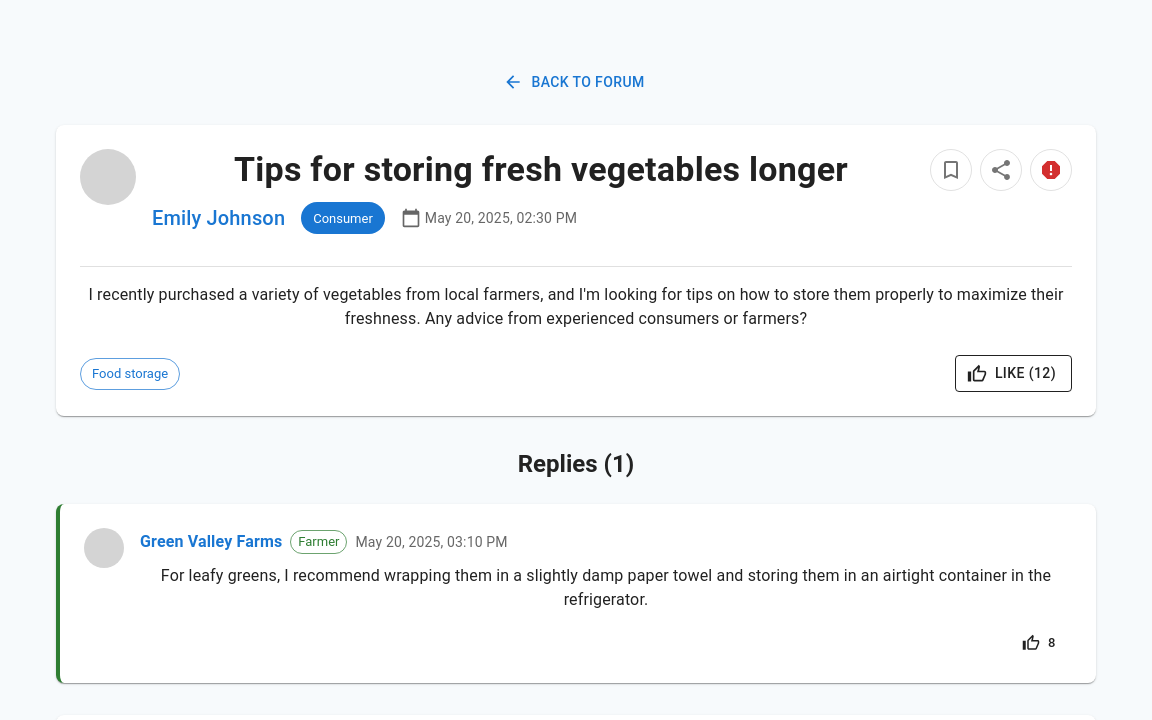
it: ForumDetail Component › handles toggling like on a post
Expected: the heading "Tips for storing fresh vegetables longer" is shown, [234,148,848,188]
# Find and click the like button
Click the button "Like (12)": (1013, 374) [955,355,1072,392]
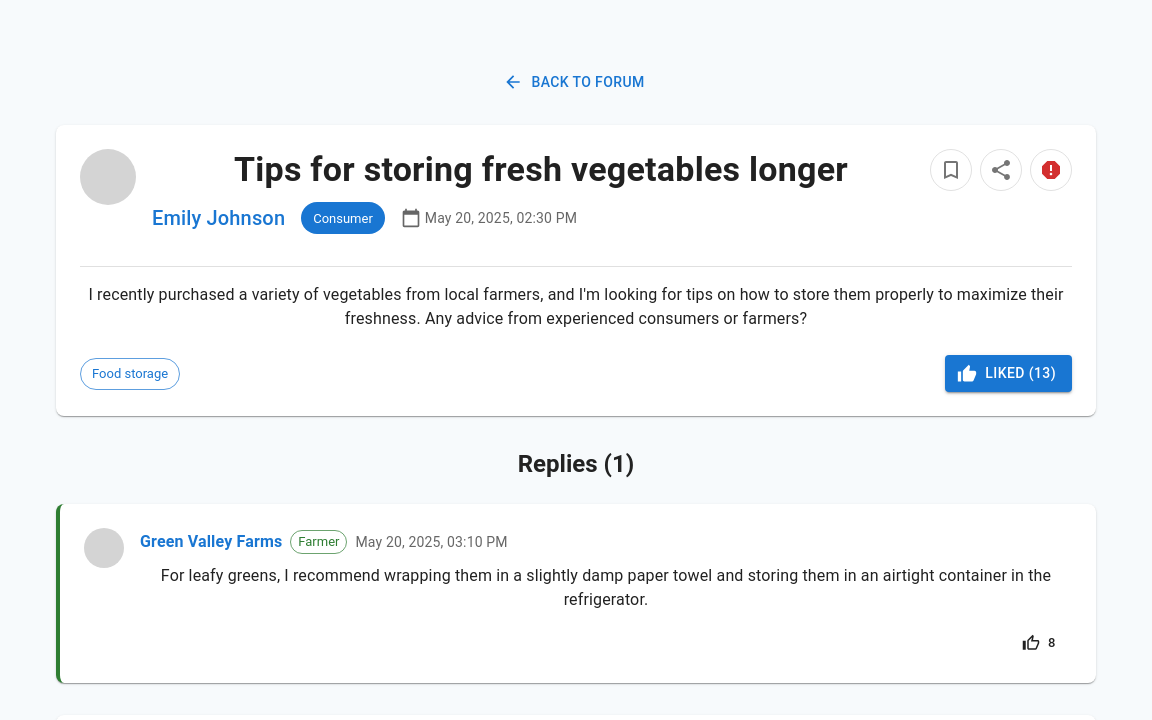
Expected: the button "Liked (13)" is shown, [945,355,1072,392]
